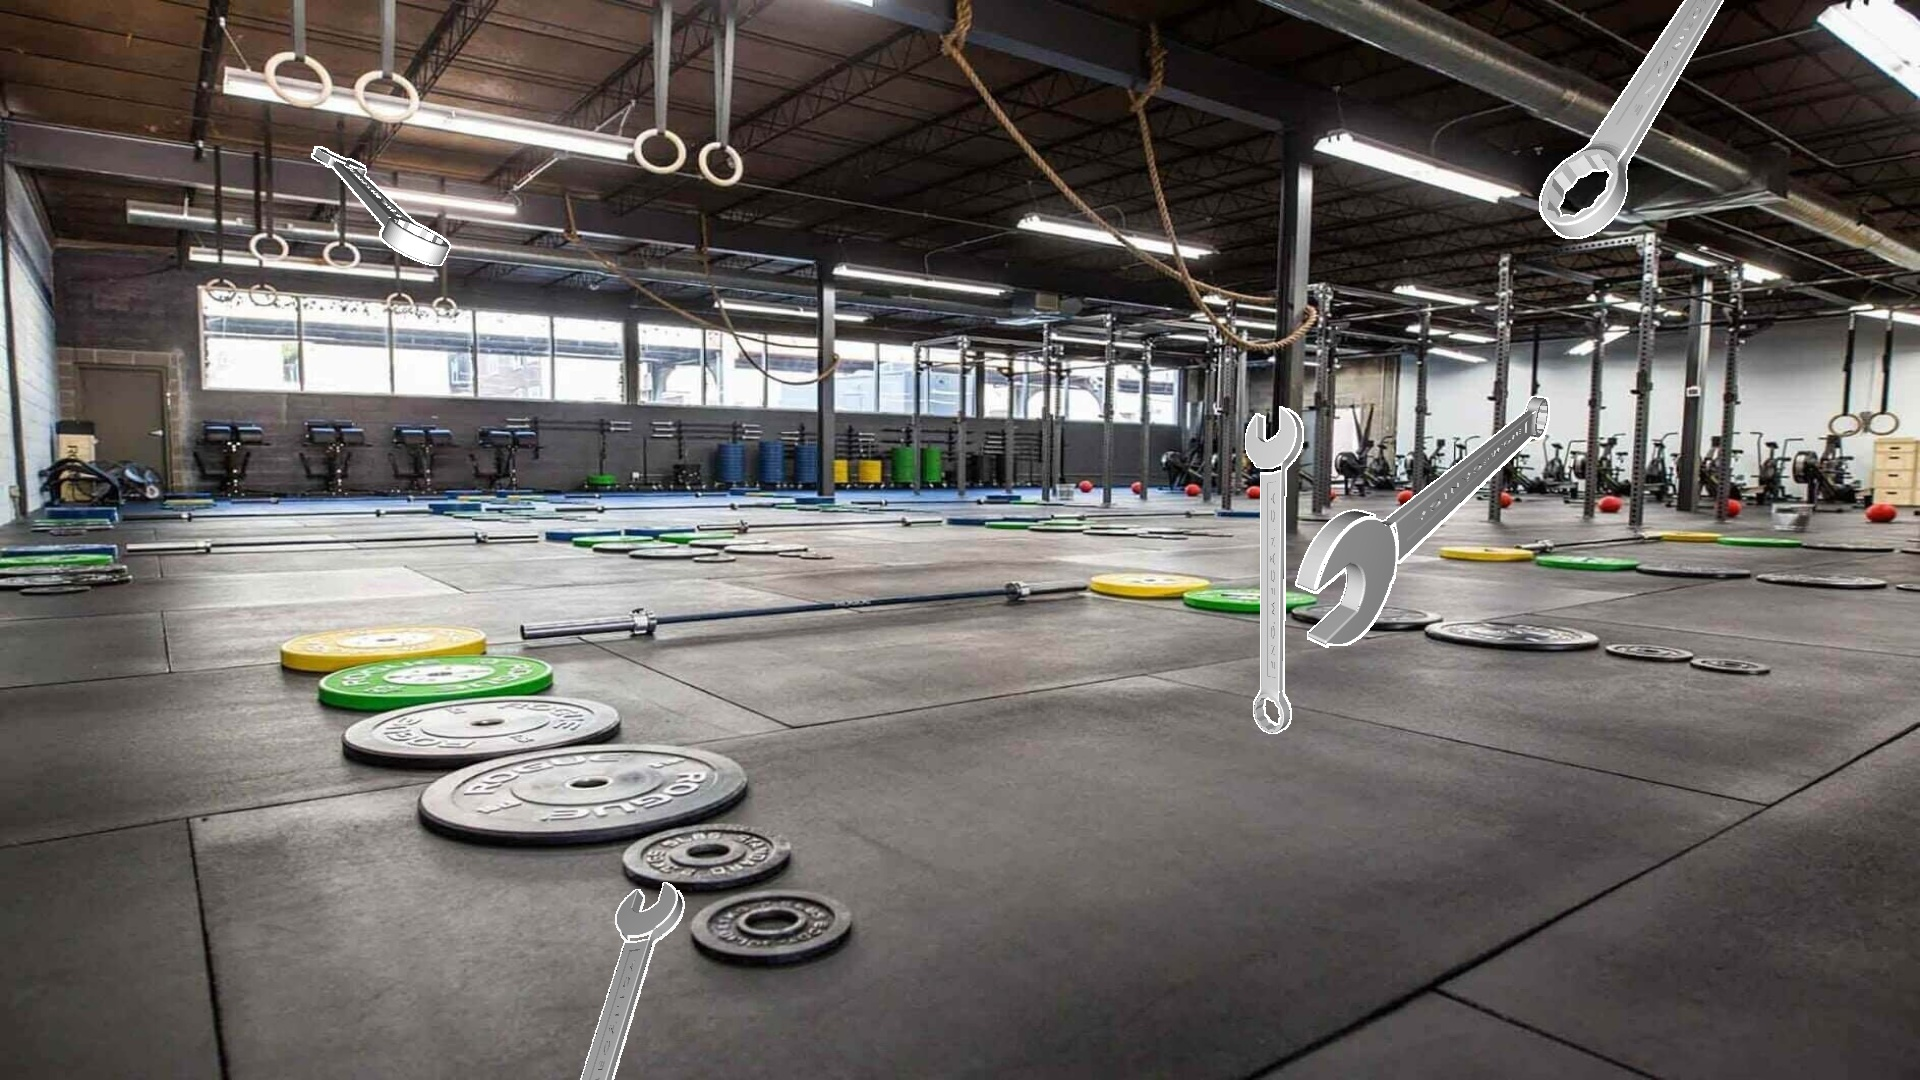Mixed Key: (1295, 396, 1549, 647), (1539, 0, 1724, 237), (580, 882, 684, 1079), (1245, 406, 1303, 733), (311, 146, 450, 265)
